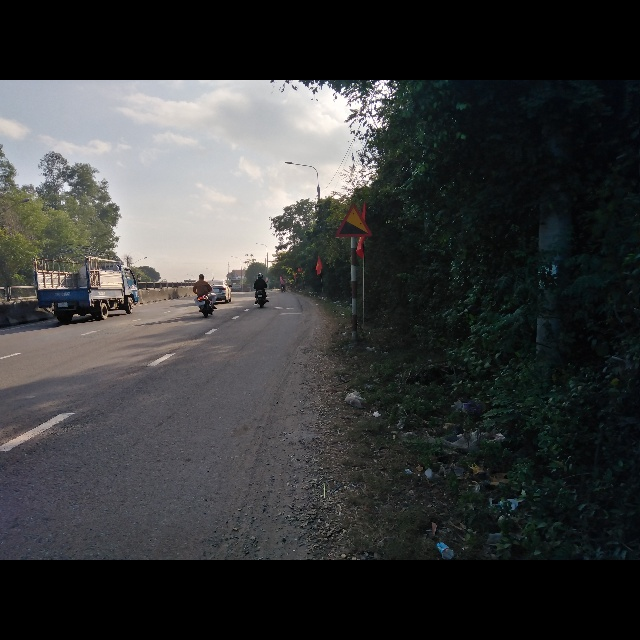Dốc lên nguy hiểm: (336, 206, 374, 238)
